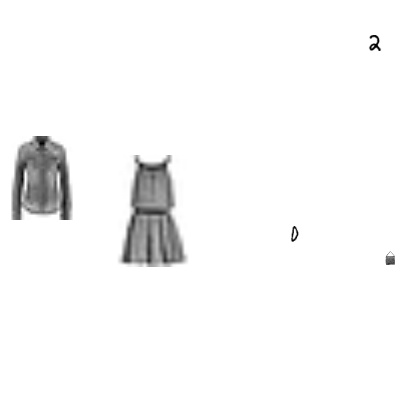0: (283, 223, 305, 245)
2: (364, 32, 386, 54)
Bag: (383, 251, 397, 265)
Dress: (95, 155, 207, 267)
Shirt: (0, 136, 84, 220)
